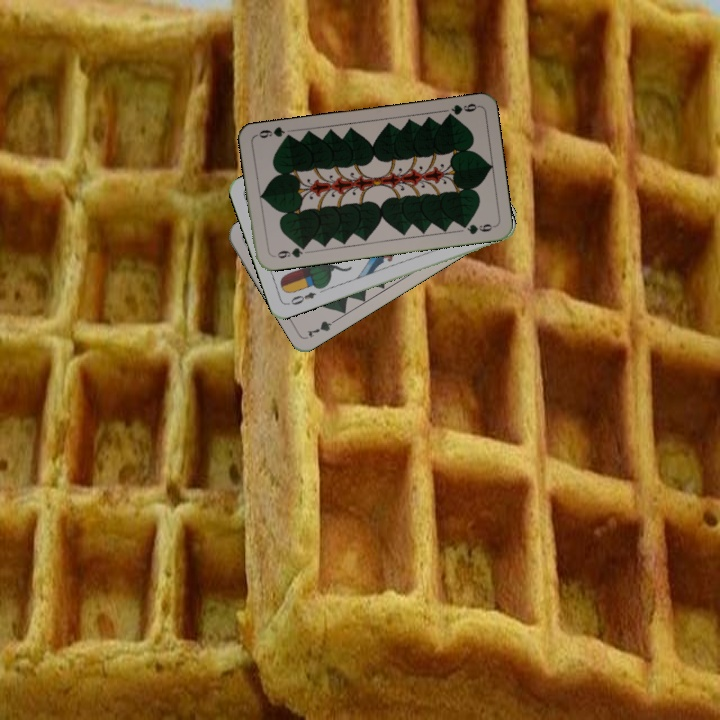EO: (284, 288, 319, 308)
G7: (303, 314, 341, 340)
G9: (441, 99, 480, 121), (273, 242, 309, 261)
